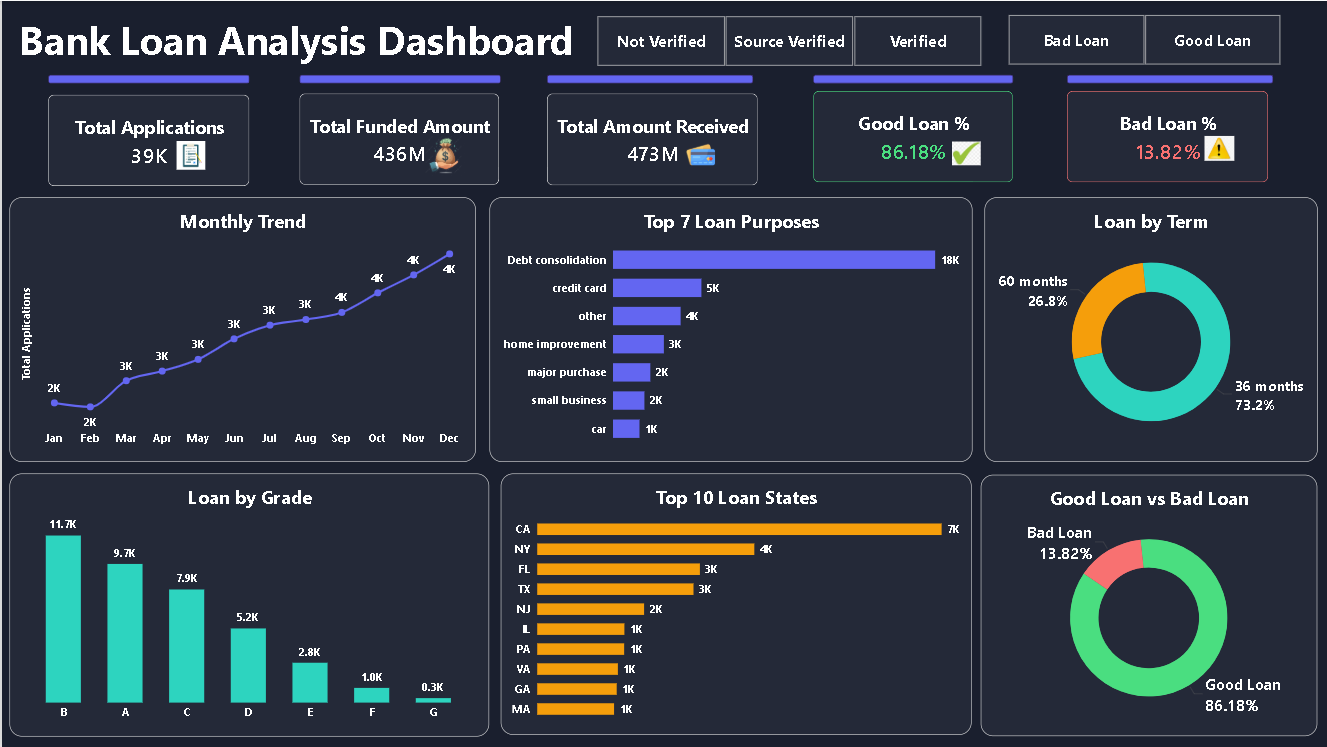

What the dashboard file says about the page in this screenshot:
{"tool":"powerbi","page":{"name":"Dashboard","canvas":[1920,1080],"ordinal":0},"visuals":[{"type":"textbox","box":[10.8,17.3,831,75.7],"z":0},{"type":"cardVisual","fields":{"Data":["financial_loan.Total Applications"]},"box":[67,135.7,291.4,132.1],"z":1000},{"type":"cardVisual","fields":{"Data":["financial_loan.Total Funded Amount"]},"box":[430.7,133.9,289.5,132.1],"z":2000},{"type":"cardVisual","fields":{"Data":["financial_loan.Total Amount Received"]},"box":[789,133.9,305.8,133.9],"z":3000},{"type":"cardVisual","fields":{"Data":["financial_loan.Good Loan %"]},"box":[1174.5,130.3,289.5,132.1],"z":4000},{"type":"cardVisual","fields":{"Data":["financial_loan.Bad Loan %"]},"box":[1541.8,130.3,291.4,132.1],"z":5000},{"type":"clusteredColumnChart","title":"Loan by Grade","fields":{"Category":["financial_loan.grade"],"Y":["financial_loan.Total Applications"]},"box":[10.8,683.9,694.7,380.9],"z":6000},{"type":"donutChart","title":"Good Loan vs Bad Loan","fields":{"Category":["financial_loan.Loan_Category"],"Y":["financial_loan.Total Applications"]},"box":[1417.5,686,486.9,378.7],"z":7000},{"type":"donutChart","title":"Loan by Term","fields":{"Category":["financial_loan.term"],"Y":["financial_loan.Total Applications"]},"box":[1421.8,283.5,482.6,383.1],"z":8000},{"type":"clusteredBarChart","title":"Top 10 Loan States","fields":{"Category":["financial_loan.address_state"],"Y":["financial_loan.Total Applications"]},"box":[722.8,683.9,681.7,378.7],"z":9000},{"type":"lineChart","title":"Monthly Trend","fields":{"Category":["financial_loan.Month_Name"],"Y":["financial_loan.Total Applications"]},"box":[10.8,283.5,675.2,383.1],"z":10000},{"type":"clusteredBarChart","title":"Top 7 Loan Purposes","fields":{"Category":["financial_loan.purpose"],"Y":["financial_loan.Total Applications"]},"box":[705.5,283.5,699,383.1],"z":11000},{"type":"shape","box":[67,106.8,291.4,12.7],"z":11001},{"type":"shape","box":[789,106.8,298.6,12.7],"z":11002},{"type":"shape","box":[430.7,106.8,291.4,12.7],"z":11003},{"type":"shape","box":[1174.5,106.8,289.5,12.7],"z":11004},{"type":"shape","box":[1541.8,106.8,298.6,12.7],"z":11005},{"type":"image","box":[247.9,202.7,50.7,41.6],"z":11006},{"type":"image","box":[611.7,191.8,57.9,63.3],"z":11007},{"type":"image","box":[988.1,191.8,47.1,61.5],"z":11008},{"type":"image","box":[1375.3,195.4,41.6,50.7],"z":11009},{"type":"image","box":[1740.9,181,43.4,65.1],"z":11010},{"type":"slicer","fields":{"Values":["financial_loan.Loan_Category"]},"box":[1437,17.3,432.8,75.7],"z":11011},{"type":"slicer","fields":{"Values":["financial_loan.verification_status"]},"box":[841.9,19.5,595.1,75.7],"z":11012}]}

Visuals, with their boxes in screenshot pixels (x1, y1, x2, y2), scaled from the page's 1920x1080 canvas onto the 1327x747 screenshot:
textbox: left=7, top=12, right=582, bottom=64
cardVisual - financial_loan.Total Applications: left=46, top=94, right=248, bottom=185
cardVisual - financial_loan.Total Funded Amount: left=298, top=93, right=498, bottom=184
cardVisual - financial_loan.Total Amount Received: left=545, top=93, right=757, bottom=185
cardVisual - financial_loan.Good Loan %: left=812, top=90, right=1012, bottom=181
cardVisual - financial_loan.Bad Loan %: left=1066, top=90, right=1267, bottom=181
"Loan by Grade" clusteredColumnChart: left=7, top=473, right=488, bottom=736
"Good Loan vs Bad Loan" donutChart: left=980, top=474, right=1316, bottom=736
"Loan by Term" donutChart: left=983, top=196, right=1316, bottom=461
"Top 10 Loan States" clusteredBarChart: left=500, top=473, right=971, bottom=735
"Monthly Trend" lineChart: left=7, top=196, right=474, bottom=461
"Top 7 Loan Purposes" clusteredBarChart: left=488, top=196, right=971, bottom=461
shape: left=46, top=74, right=248, bottom=83
shape: left=545, top=74, right=752, bottom=83
shape: left=298, top=74, right=499, bottom=83
shape: left=812, top=74, right=1012, bottom=83
shape: left=1066, top=74, right=1272, bottom=83
image: left=171, top=140, right=206, bottom=169
image: left=423, top=133, right=463, bottom=176
image: left=683, top=133, right=715, bottom=175
image: left=951, top=135, right=979, bottom=170
image: left=1203, top=125, right=1233, bottom=170
slicer - financial_loan.Loan_Category: left=993, top=12, right=1292, bottom=64
slicer - financial_loan.verification_status: left=582, top=13, right=993, bottom=66
